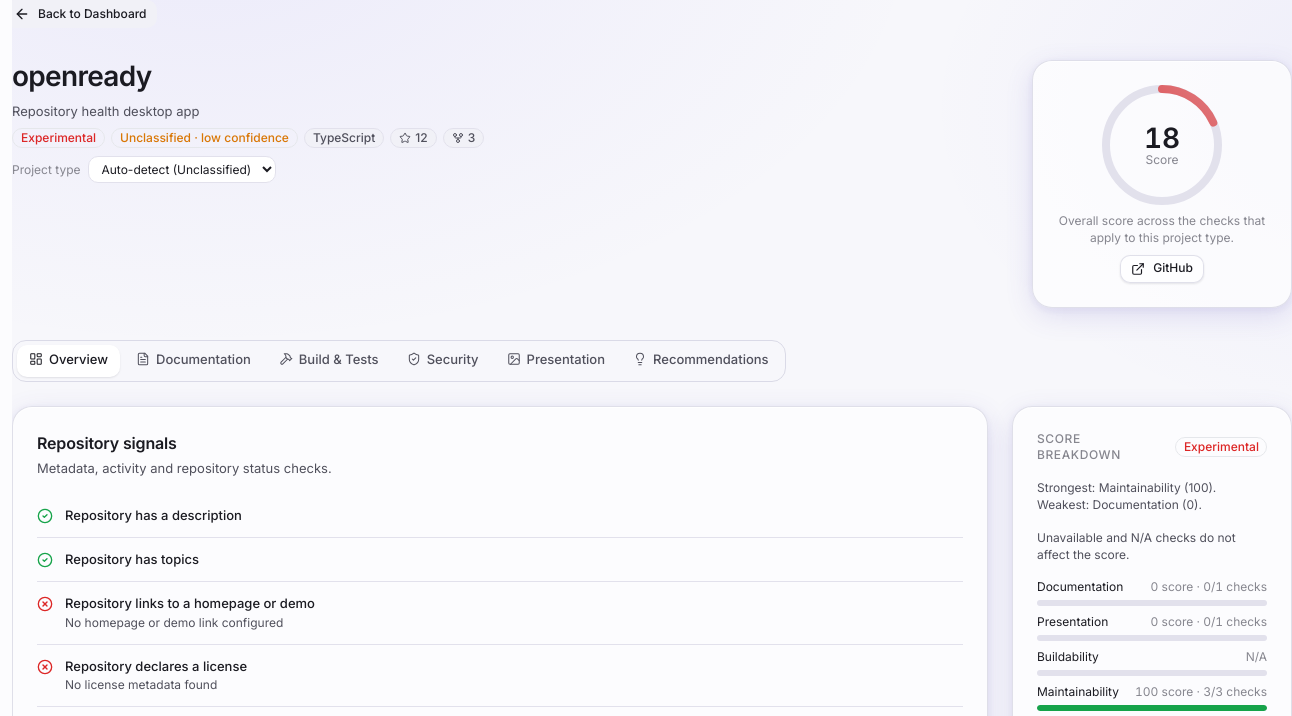
Scenario: RepositoryDetailRoute › renders missing README and empty repository tree evidence
The image size is (1292, 716).
Step 1. Click the tab "Documentation" → (193, 361), box x1=124 y1=345 x2=263 y2=377
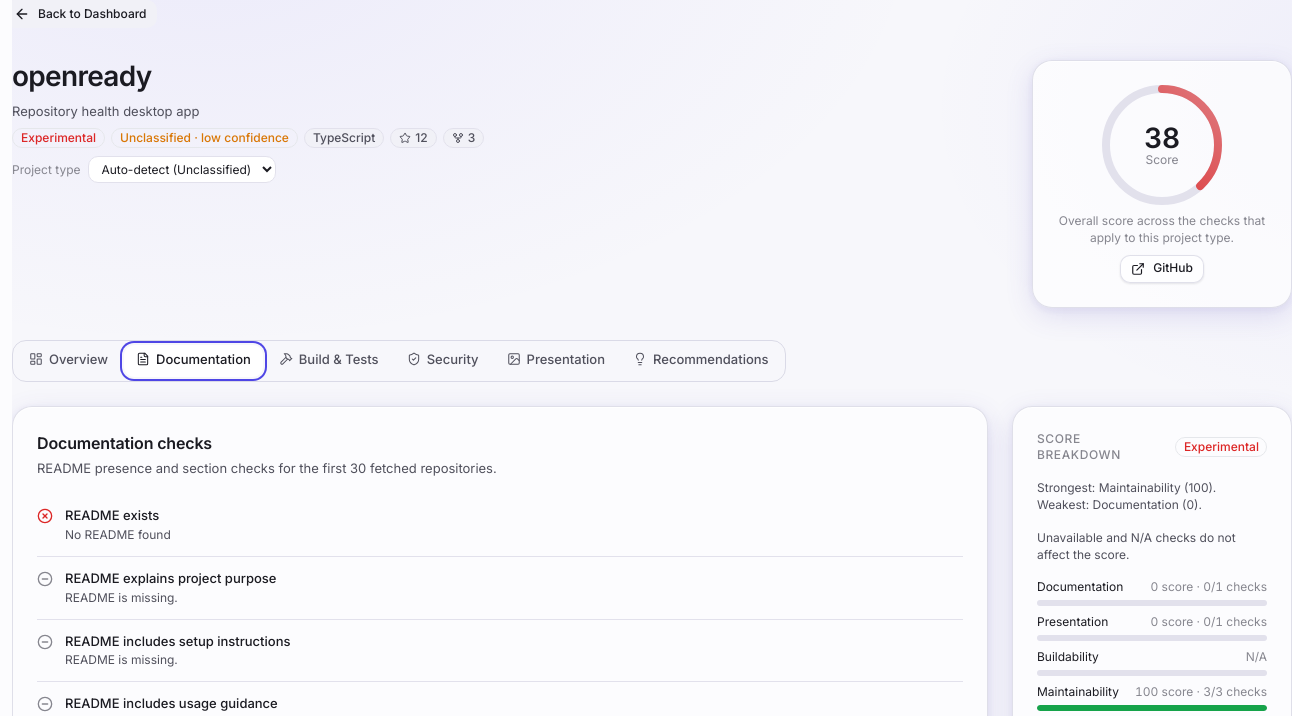
Now the text "No README found" is shown, box x1=65 y1=527 x2=171 y2=544
